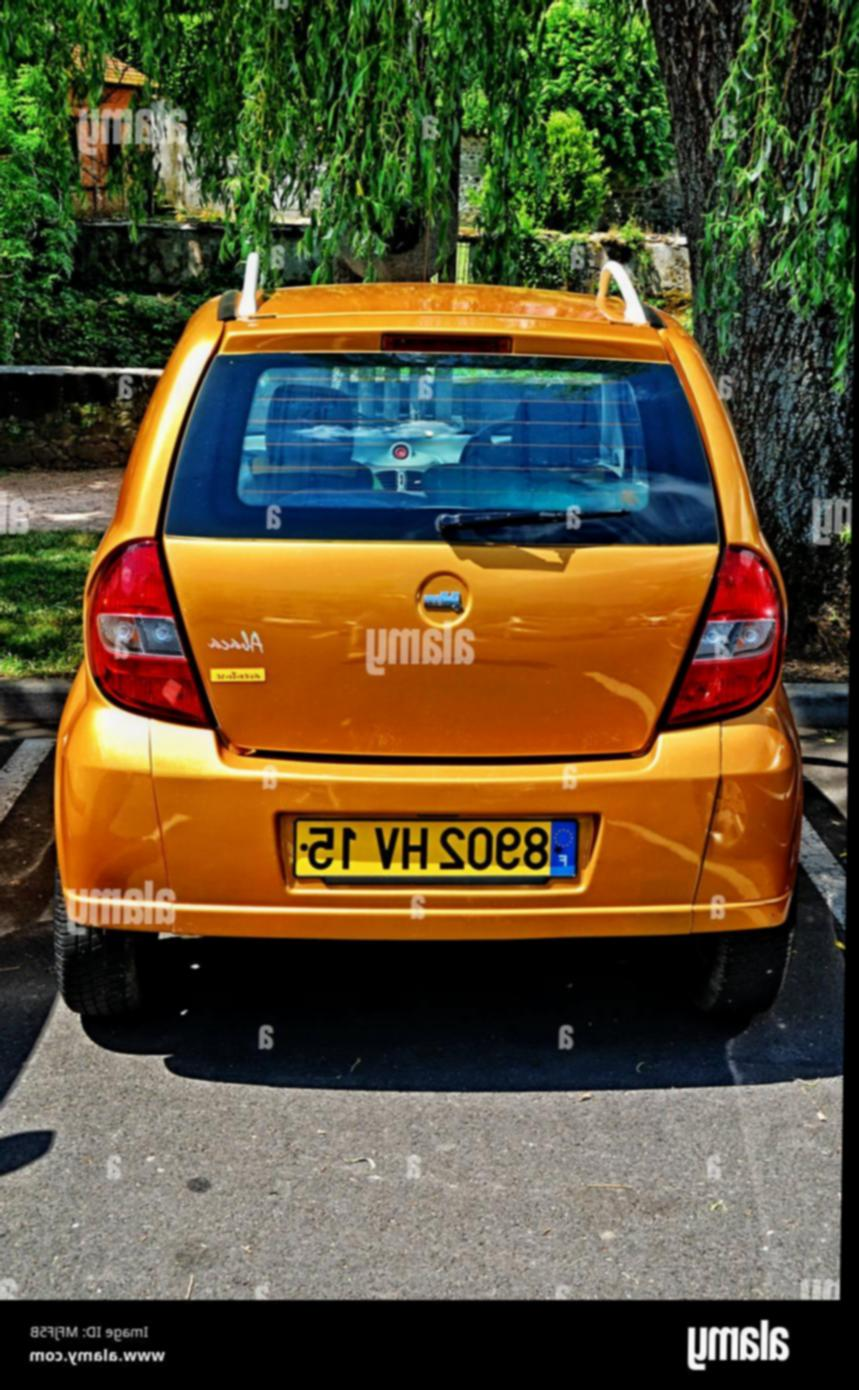License_Plate: (291, 816, 588, 890)
